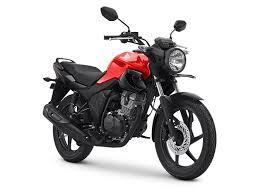motorcycle: (33, 4, 221, 186)
